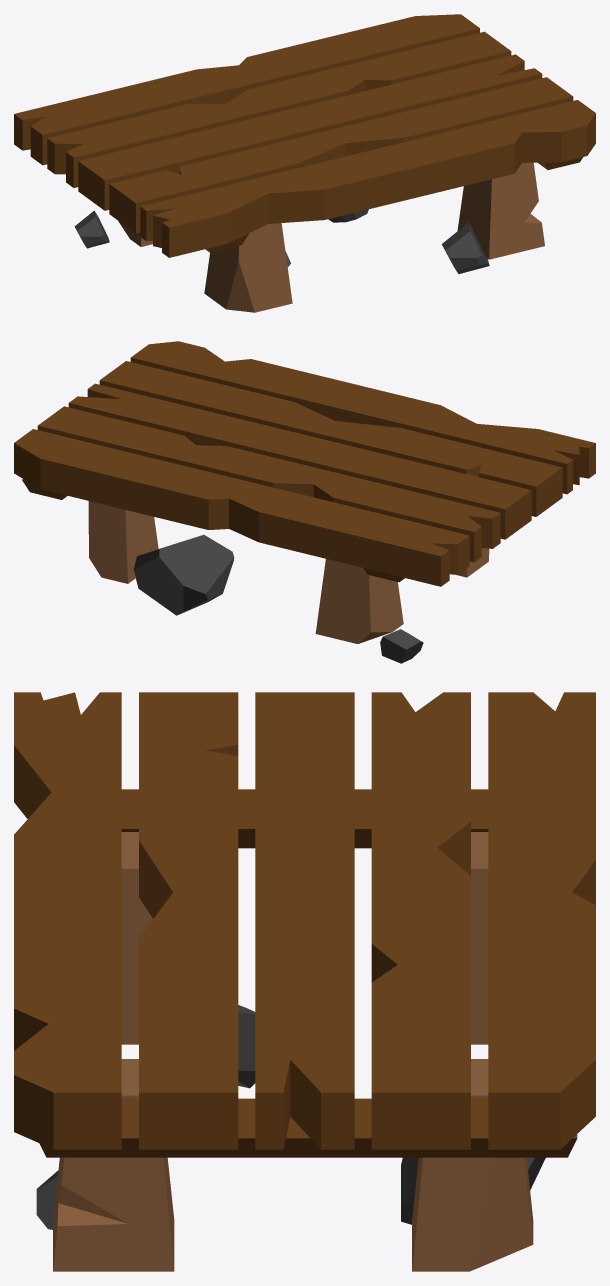
File: WoodenTable1.fbx
3 renders of one model, top to bottom at view 1: azimuth 30°, elevation 25°; view 2: azimuth 150°, elevation 25°; view 3: azimuth 270°, elevation 25°, orthographic. The views are drawn at different scales.
Visible parts, largest first — view 1: WoodenTable1; view 2: WoodenTable1; view 3: WoodenTable1.
Part boxes in pixels (bbox=[...]): WoodenTable1: bbox=[14, 14, 595, 312]; WoodenTable1: bbox=[14, 341, 595, 663]; WoodenTable1: bbox=[14, 692, 595, 1271].
Size of the model in its own units: 124 by 39.65 by 75.99.
